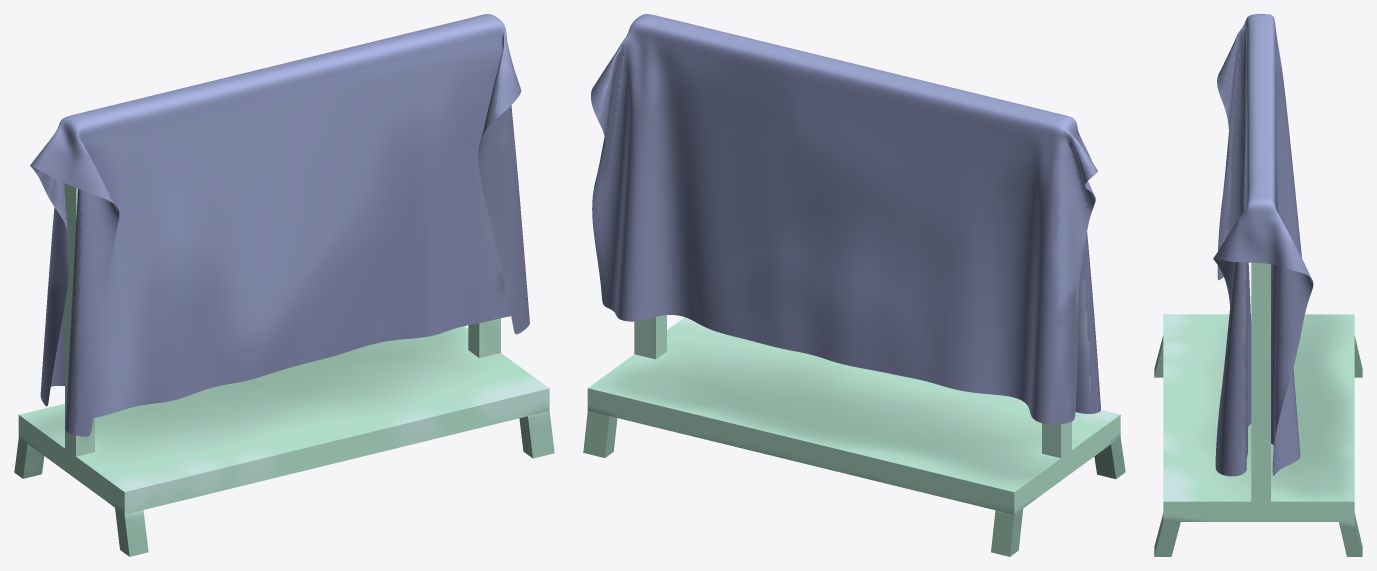
The model's file is Perchero_prefab.fbx.
3 renders of one model, left to right at view 1: azimuth 30°, elevation 25°; view 2: azimuth 150°, elevation 25°; view 3: azimuth 270°, elevation 25°, orthographic. The views are drawn at different scales.
Visible parts, largest first — view 1: Plane, Cube; view 2: Plane, Cube; view 3: Cube, Plane.
Boxes of the visible parts, bbox=[...] form: Plane: bbox=[30, 14, 529, 436]; Cube: bbox=[14, 183, 554, 556]; Plane: bbox=[591, 14, 1100, 424]; Cube: bbox=[583, 315, 1125, 556]; Cube: bbox=[1154, 262, 1362, 556]; Plane: bbox=[1213, 14, 1313, 476].
Size of the model in its own units: 407 by 311 by 164.
Materials: 2 (2 with a texture image).
